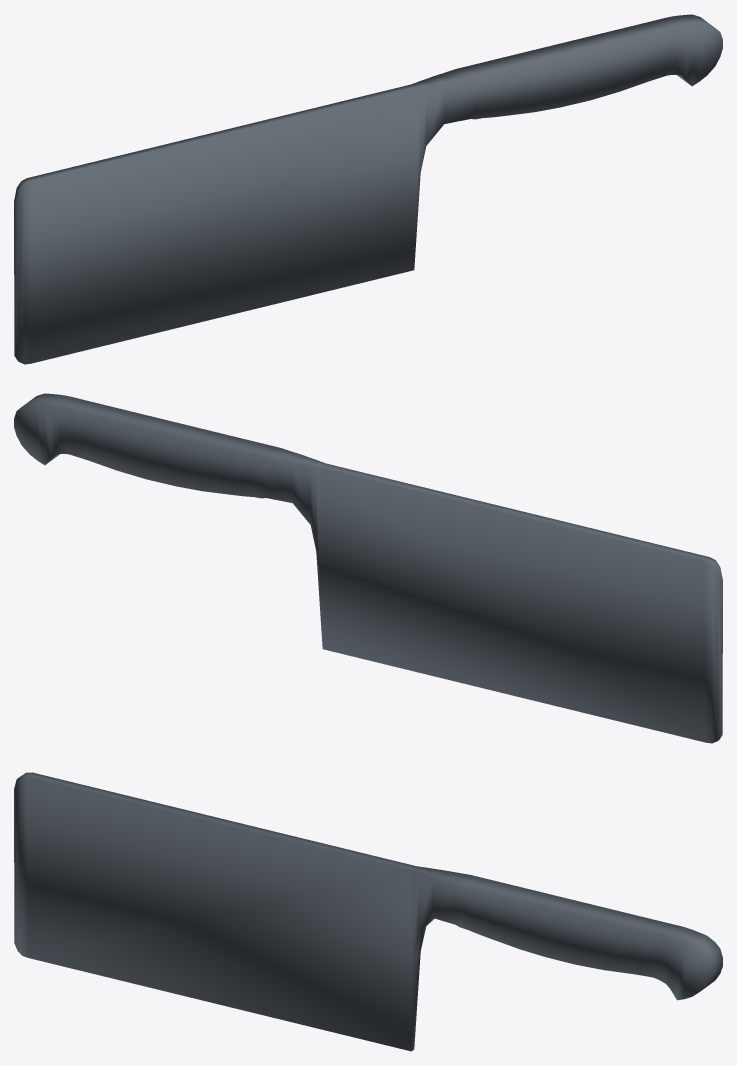
File: mdl_knive01.fbx
3 views of the same model, one above another, from view 1: azimuth 30°, elevation 25°; view 2: azimuth 150°, elevation 25°; view 3: azimuth 330°, elevation 25° (orthographic).
Visible parts, largest first — view 1: Plane.001; view 2: Plane.001; view 3: Plane.001.
Boxes of the visible parts, bbox=[...] form: Plane.001: bbox=[14, 14, 722, 364]; Plane.001: bbox=[14, 393, 722, 743]; Plane.001: bbox=[14, 772, 722, 1051].
Bounding box in the file's own units: 312 × 77.66 × 11.6.
